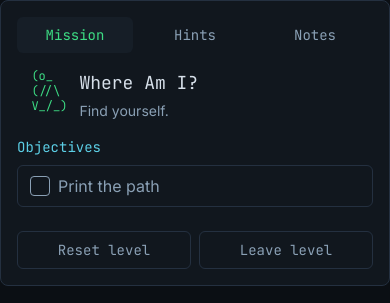
Test: QuestPanel › shows the notes empty state with a spellbook link
What coordinates should you click on to do the following:
click the tab "Notes"
I would click on:
 (315, 35)
Its box is [257,17,373,53].
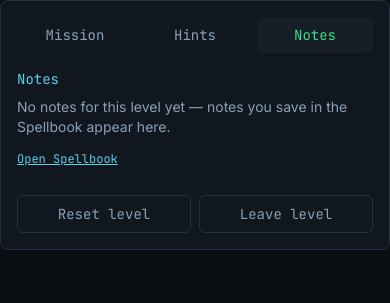
Check: the text "No notes for this level yet — notes you save in the Spellbook appear here." is shown, box [17,97,373,137]
Check: the link "Open Spellbook" is shown, box [17,147,118,171]
